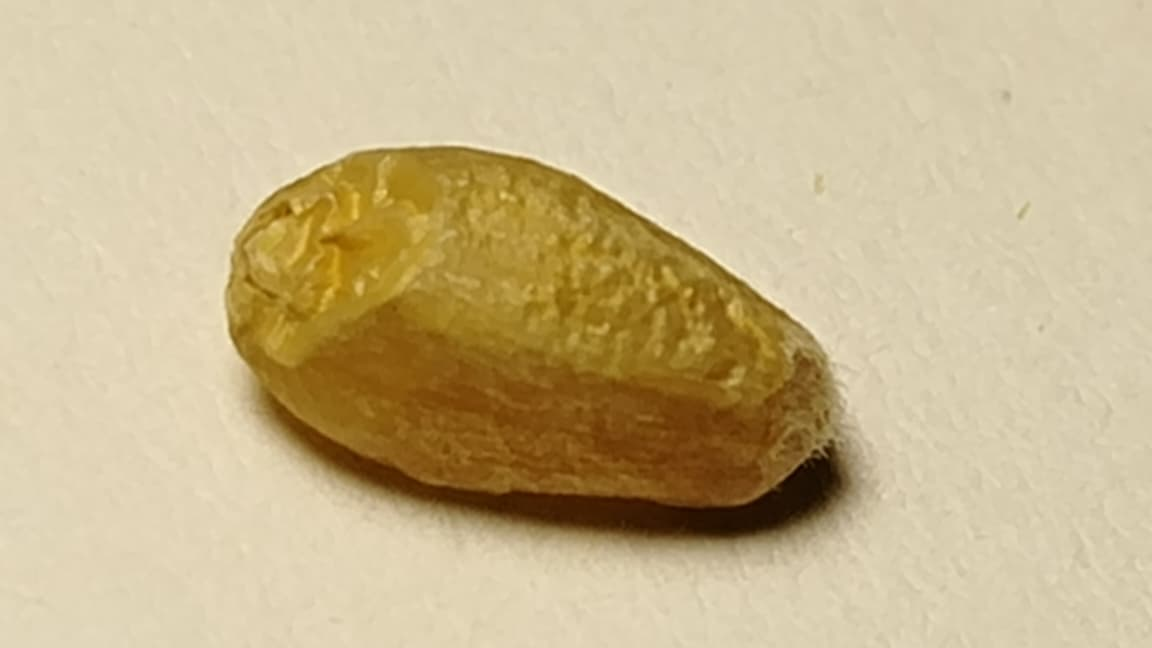healthy: (227, 147, 834, 506)
